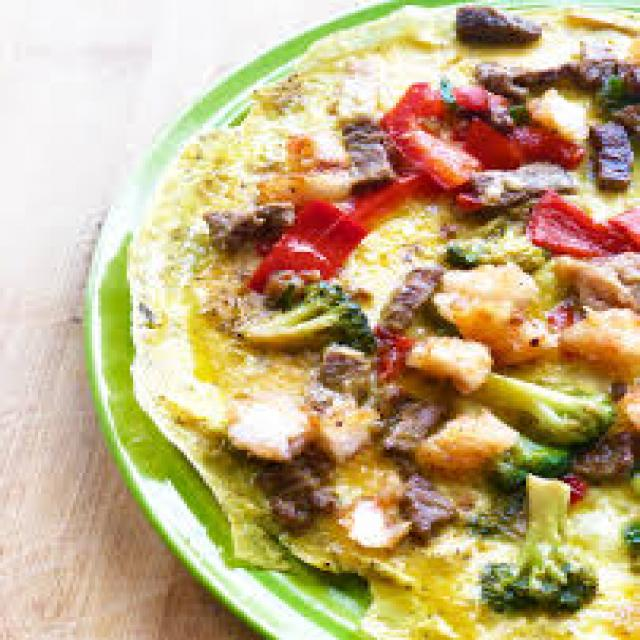organic waste: (127, 2, 637, 635)
